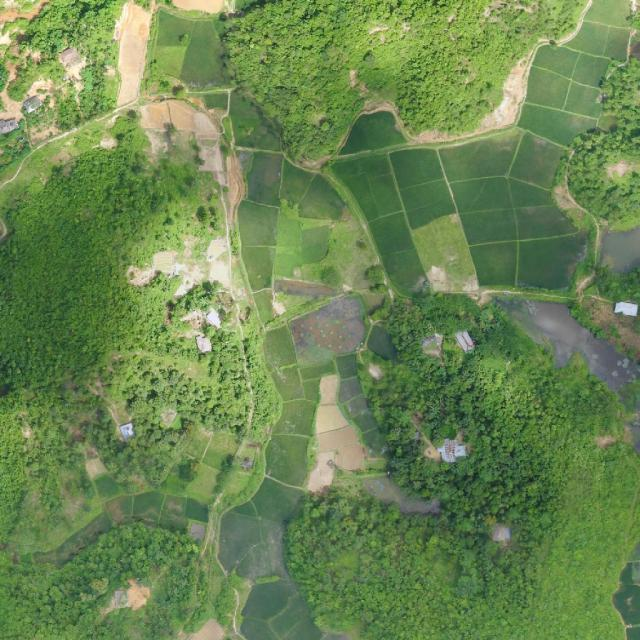agricultural_land: (612, 544, 640, 639)
dryland: (113, 168, 246, 378)
greenland: (0, 129, 249, 551), (225, 0, 581, 160)
